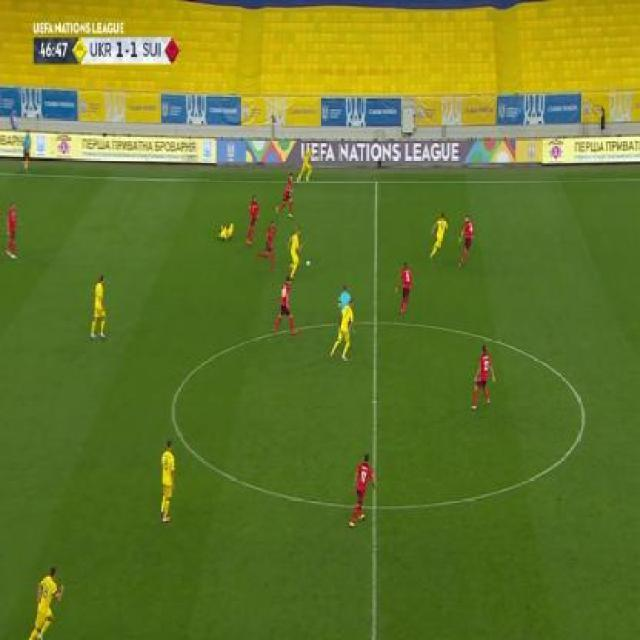ball: (305, 258, 311, 267)
player: (27, 564, 66, 638), (349, 451, 378, 527), (471, 343, 497, 411), (157, 436, 177, 524), (273, 273, 299, 338), (331, 301, 356, 363), (89, 274, 109, 339), (3, 200, 22, 260), (394, 259, 414, 316), (427, 212, 450, 260), (456, 214, 476, 268), (258, 220, 278, 273), (244, 194, 261, 248), (275, 172, 294, 220), (287, 227, 303, 283), (296, 141, 313, 183), (19, 129, 32, 175), (337, 285, 353, 318), (218, 219, 234, 241)
